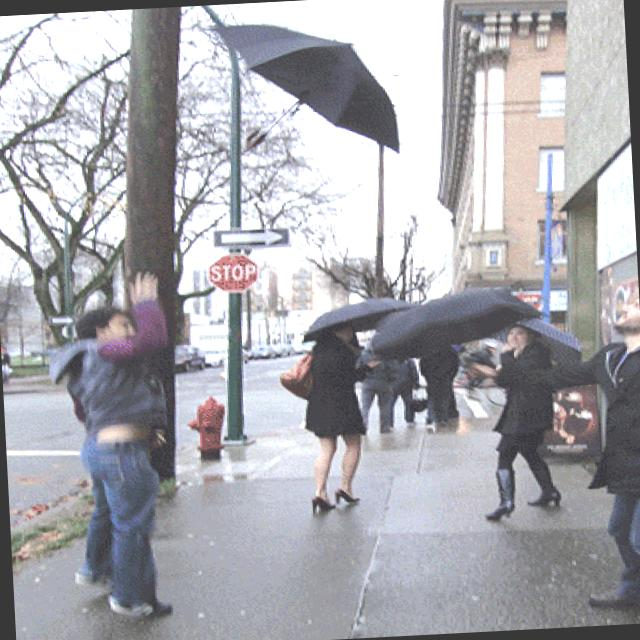Vehicle: (174, 344, 206, 374), (204, 348, 228, 368), (254, 347, 282, 359), (242, 349, 250, 364), (294, 346, 304, 354)
